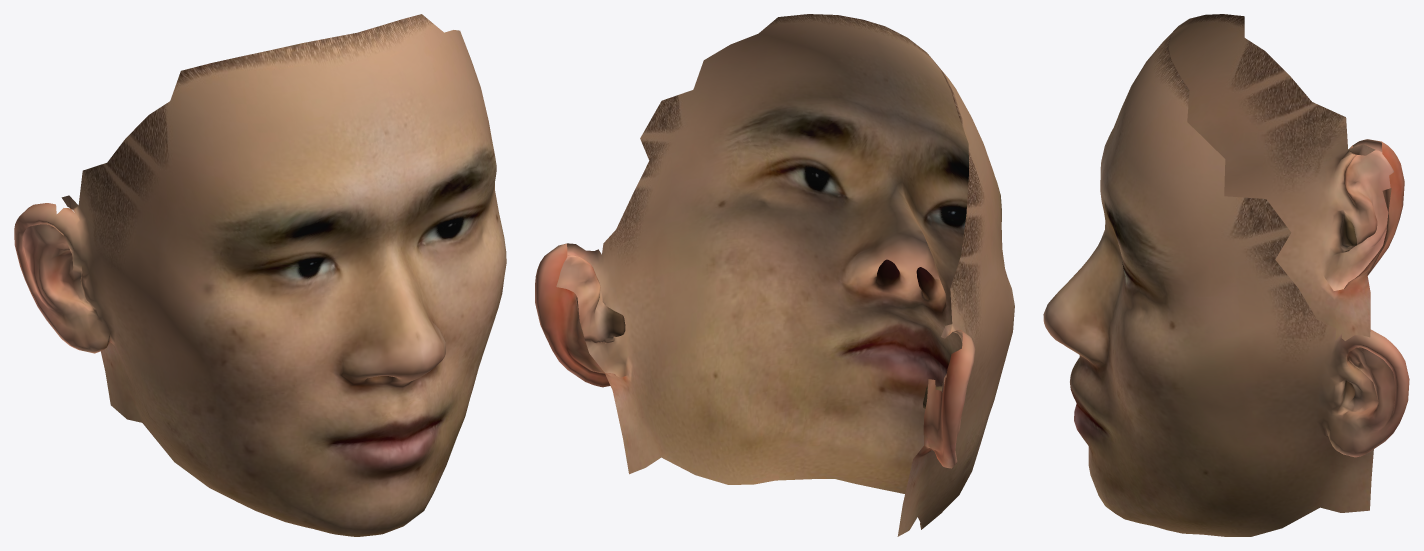
File: Kaleb_face.fbx
3 views of the same model, side by side, from view 1: azimuth 30°, elevation 25°; view 2: azimuth 150°, elevation 25°; view 3: azimuth 270°, elevation 25° (orthographic). The views are drawn at different scales.
Parts seen in each view (by area): view 1: avaturn_body.001; view 2: avaturn_body.001; view 3: avaturn_body.001.
Boxes of the visible parts, box(x1,y1,x2,y2) form: avaturn_body.001: box(14, 14, 506, 536); avaturn_body.001: box(535, 14, 1014, 536); avaturn_body.001: box(1043, 14, 1409, 536).
Size of the model in its own units: 19.42 by 20.66 by 14.69.
1 material, 1 textured.
